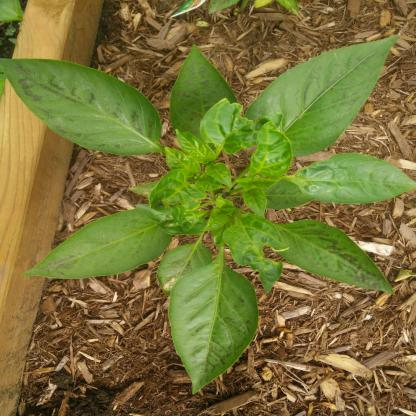Bell_pepper leaf: (252, 35, 397, 156), (2, 54, 168, 158), (171, 264, 266, 387), (263, 217, 396, 295), (29, 208, 176, 275), (162, 44, 240, 137), (289, 153, 414, 206)
